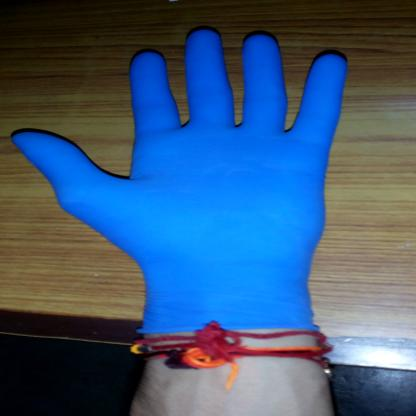gloved_hand: (5, 24, 355, 341)
